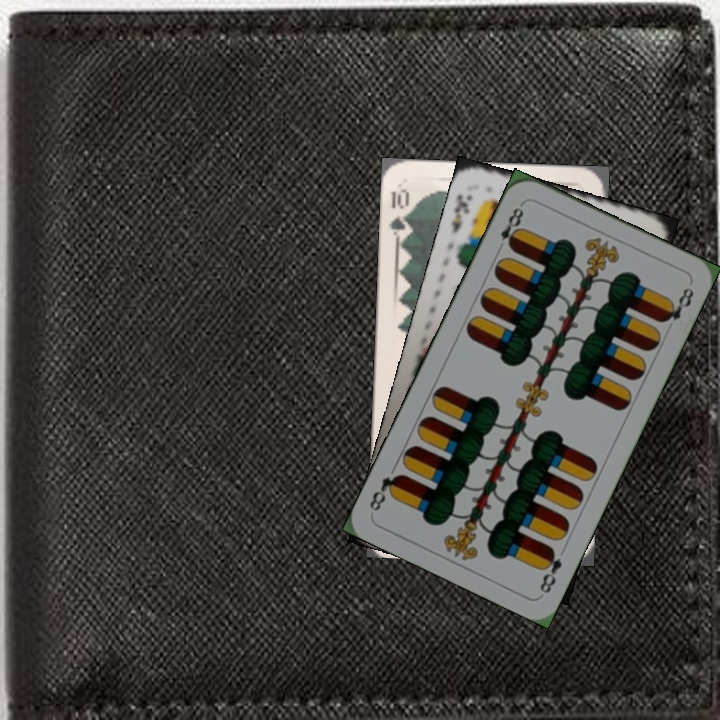E8: (493, 199, 527, 255), (535, 543, 565, 596)
EK: (447, 190, 475, 236)
G10: (386, 185, 413, 242)
